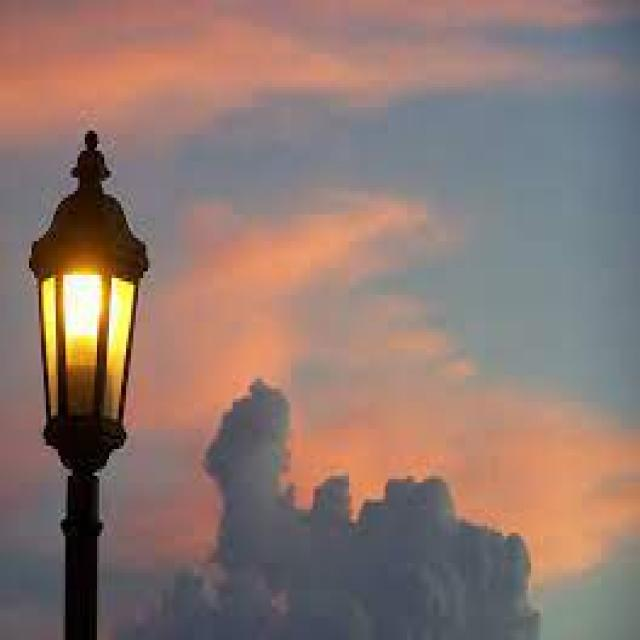Street Light: (26, 130, 150, 640)
